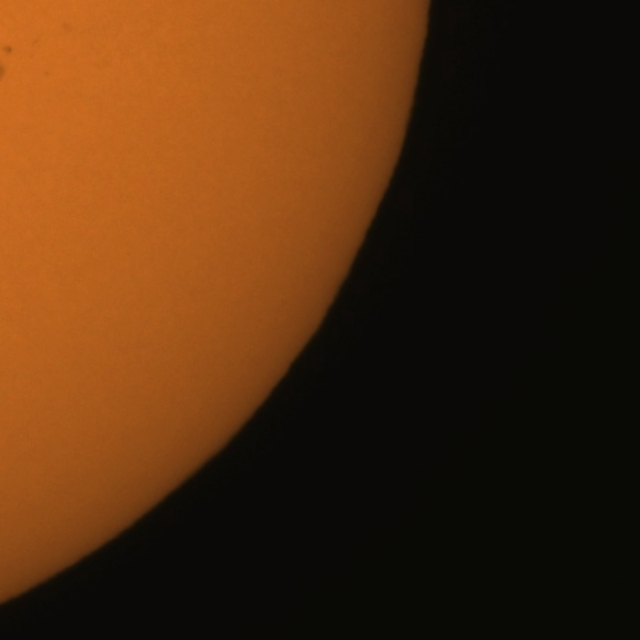sunspot: (0, 51, 9, 88), (0, 43, 14, 57)
